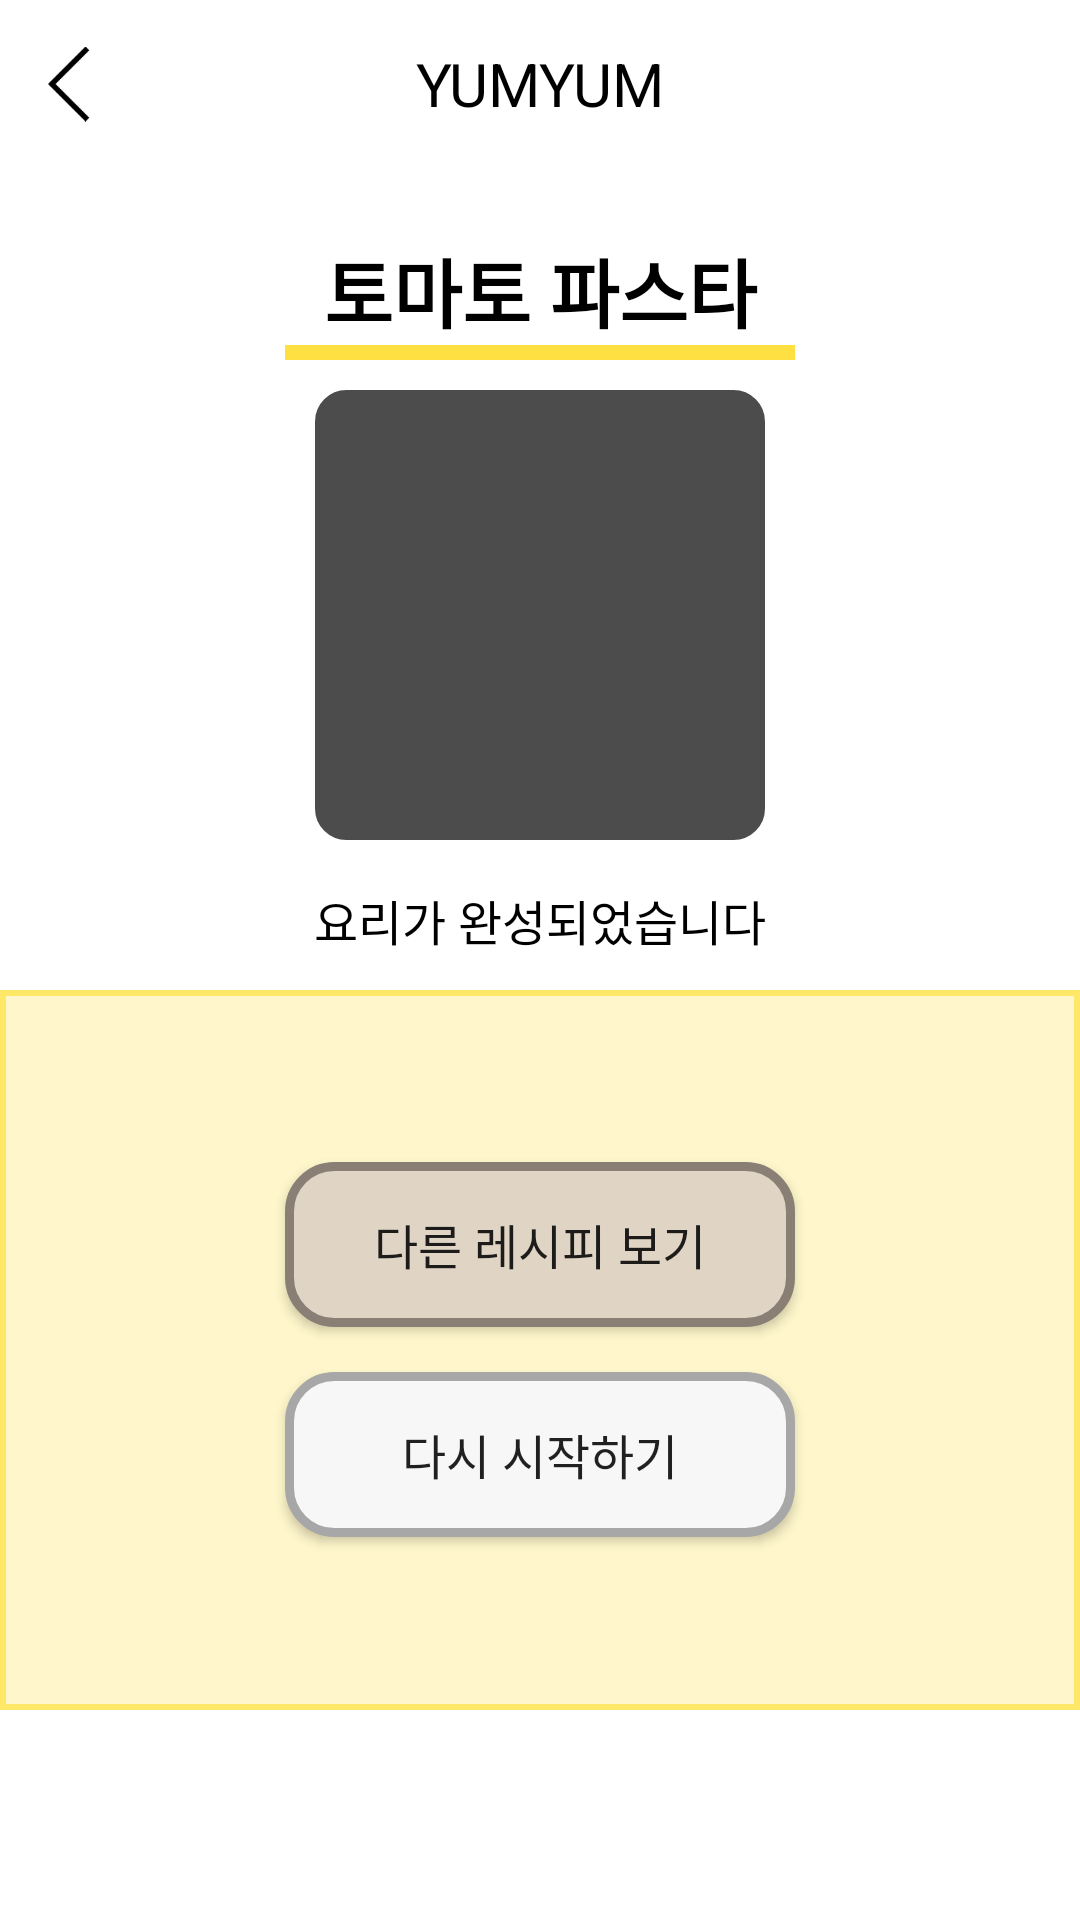

Named icons in this screenshot (1080 × 1920) and their bounding boxes, [left=x1, top=y1, right=x2, bottom=y2]:
back: [left=48, top=47, right=89, bottom=122]
